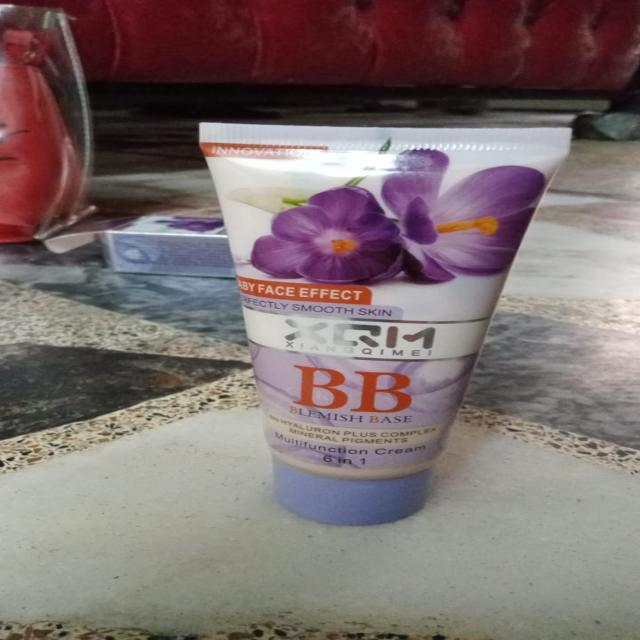bb cream: (191, 102, 571, 538)
